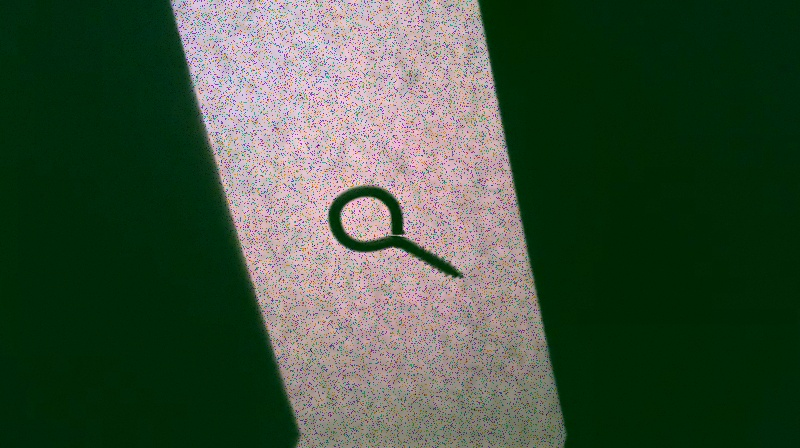O001: (325, 183, 468, 282)
